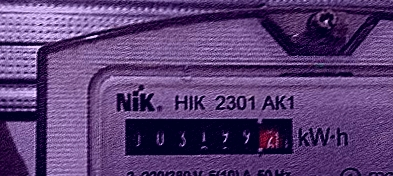0: (154, 128, 165, 147), (131, 128, 140, 147)
1: (198, 125, 207, 143)
3: (175, 128, 186, 148)
6: (263, 134, 274, 148)
9: (219, 124, 229, 145), (241, 127, 251, 145)
screen: (116, 107, 299, 163)
